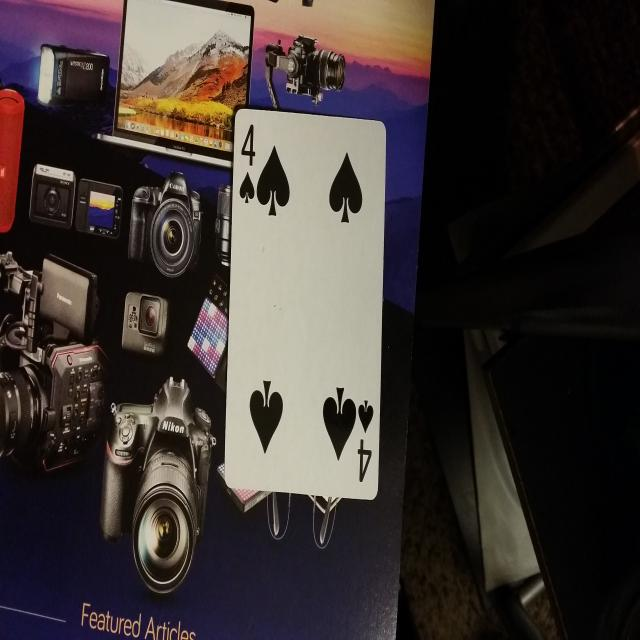4s: (234, 119, 260, 218), (353, 392, 376, 498)
